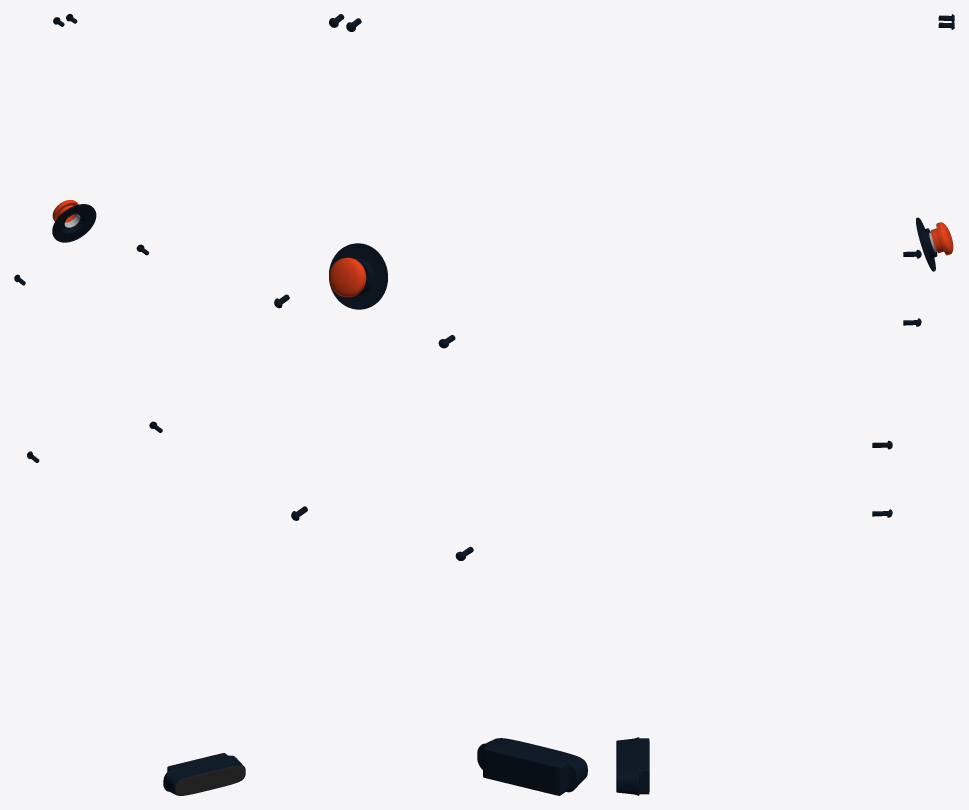
File: 03 Screws & joineries  Default - Black.glb
3 views of the same model, side by side, from view 1: azimuth 30°, elevation 25°; view 2: azimuth 150°, elevation 25°; view 3: azimuth 270°, elevation 25° (orthographic). The views are drawn at different scales.
Parts seen in each view (by area): view 1: Cube, Red pannic button; view 2: Cube, Red pannic button, Cylinder.008; view 3: Cube, Red pannic button.
Boxes of the visible parts, <box> form: Cube: <box>163,753,245,795</box>; Red pannic button: <box>52,200,96,242</box>; Cube: <box>477,738,587,795</box>; Red pannic button: <box>329,243,387,309</box>; Cylinder.008: <box>274,294,473,560</box>; Cube: <box>616,737,649,795</box>; Red pannic button: <box>916,217,953,271</box>.
Size of the model in its own units: 0.1558 by 0.7685 by 0.3099.
